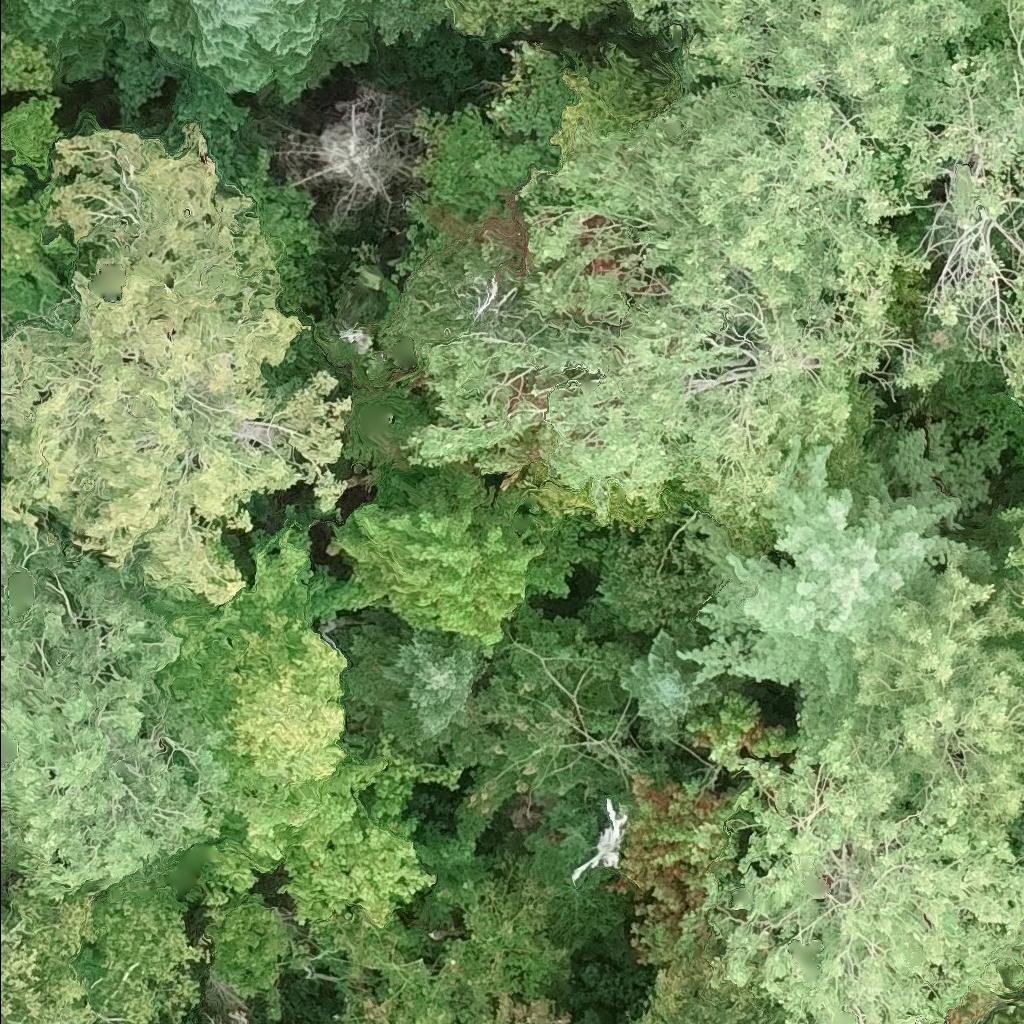crown: (402, 86, 943, 564), (134, 505, 463, 927), (0, 273, 350, 601), (683, 423, 1007, 738), (694, 739, 1023, 1023), (0, 526, 228, 901), (800, 562, 1023, 866), (863, 0, 1023, 411), (607, 693, 801, 969), (628, 0, 984, 145), (207, 882, 571, 1023), (47, 122, 282, 315), (109, 0, 370, 169), (335, 475, 594, 643), (0, 823, 203, 1023), (0, 96, 102, 338), (411, 102, 559, 258), (379, 231, 531, 364), (344, 624, 491, 751), (286, 90, 412, 227), (239, 627, 345, 761), (638, 930, 782, 1023), (621, 633, 721, 744), (0, 0, 122, 82), (488, 38, 577, 147), (354, 0, 452, 45), (0, 30, 53, 91), (500, 0, 615, 26), (443, 0, 513, 36), (1004, 526, 1023, 604), (1002, 507, 1023, 522), (234, 1009, 246, 1023), (202, 1020, 222, 1023)
